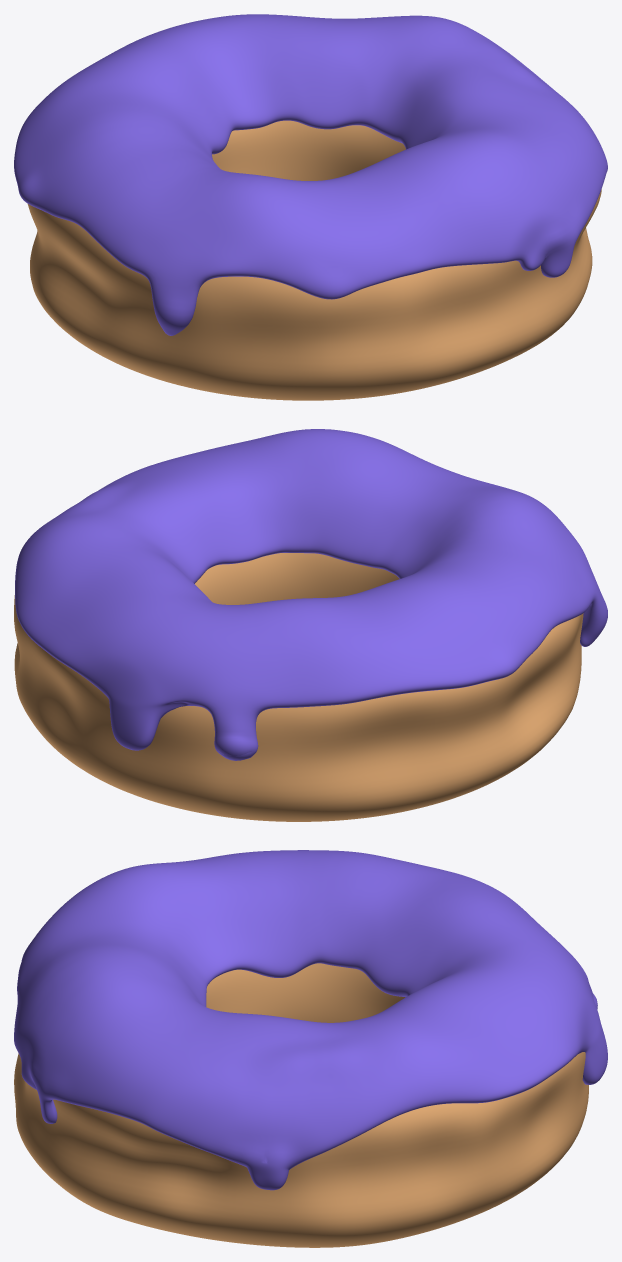
The model's file is donut.gltf.glb.
The picture shows the model from 3 angles, top to bottom: view 1: azimuth 30°, elevation 25°; view 2: azimuth 150°, elevation 25°; view 3: azimuth 270°, elevation 25°; orthographic projection. The views are drawn at different scales.
Parts seen in each view (by area): view 1: Icing, Donue; view 2: Icing, Donue; view 3: Icing, Donue.
Part boxes in pixels (bbox=[...]): Icing: bbox=[14, 14, 607, 335]; Donue: bbox=[27, 120, 601, 400]; Icing: bbox=[15, 429, 607, 760]; Donue: bbox=[14, 553, 583, 821]; Icing: bbox=[14, 850, 607, 1190]; Donue: bbox=[14, 963, 588, 1247].
Size of what is drawn, in the model's own units: 0.1463 by 0.0587 by 0.144.
